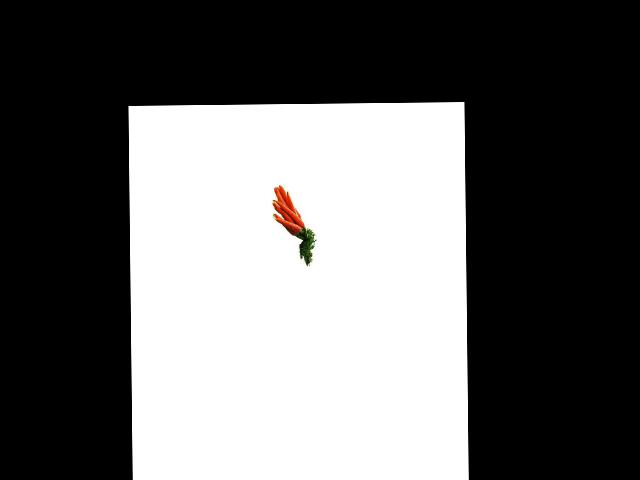carrot: (264, 219, 299, 236)
